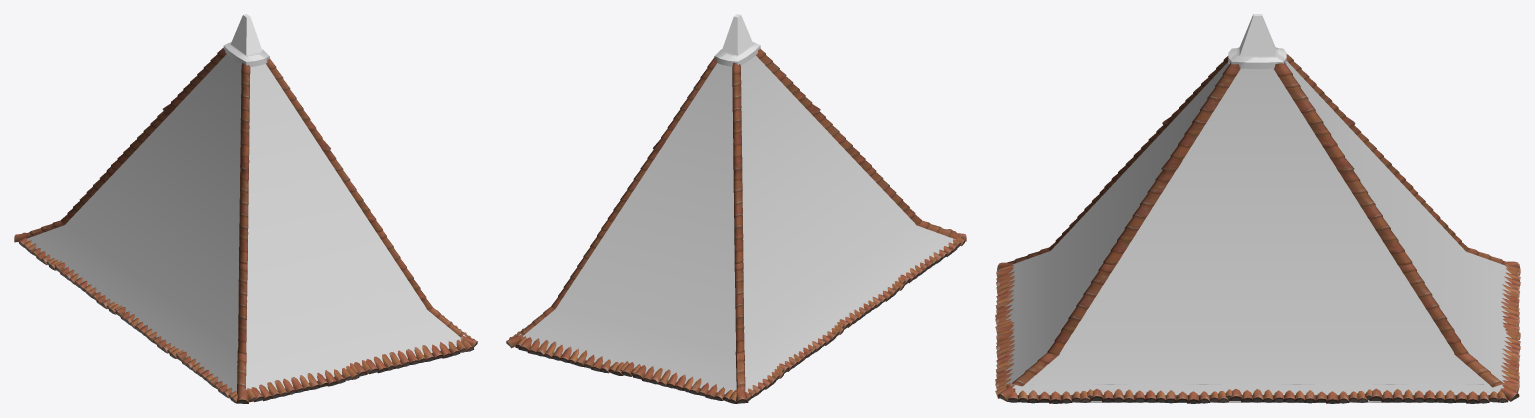
Rendered from SM_GeneralS_Roof_Big.fbx.
3 renders of one model, left to right at view 1: azimuth 30°, elevation 25°; view 2: azimuth 150°, elevation 25°; view 3: azimuth 270°, elevation 25°, orthographic. The views are drawn at different scales.
Visible parts, largest first — view 1: SM_GeneralS_Roof_Big_LOD0; view 2: SM_GeneralS_Roof_Big_LOD0; view 3: SM_GeneralS_Roof_Big_LOD0.
Part boxes in pixels (x1,y1,x2,y2): SM_GeneralS_Roof_Big_LOD0: [14, 14, 477, 403]; SM_GeneralS_Roof_Big_LOD0: [506, 14, 966, 403]; SM_GeneralS_Roof_Big_LOD0: [995, 14, 1520, 403].
Size of what is drawn, in the model's own units: 11.66 by 13.02 by 19.
